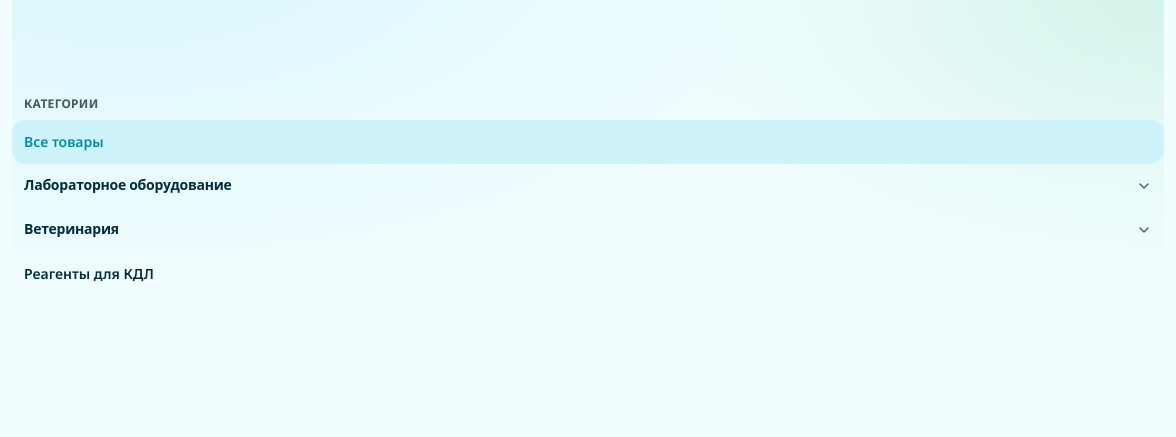
Test: CategoryFilter › раскрывает раздел по нажатию на заголовок
Click the button "Лабораторное оборудование". click: point(128, 186)
box: [12,164,1164,208]
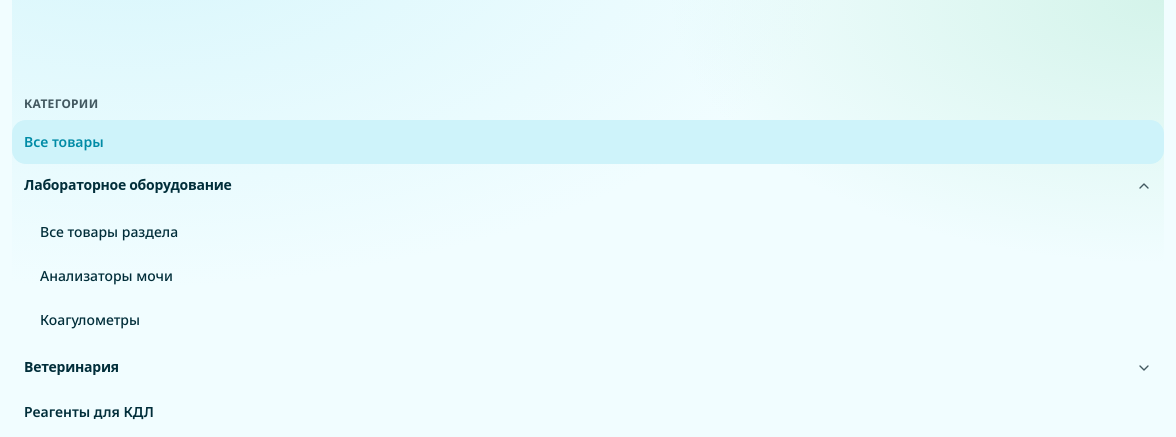
Expected: the button "Лабораторное оборудование" is expanded, [12,164,1164,208]
Expected: the button "Коагулометры" is shown, [12,298,1164,342]
